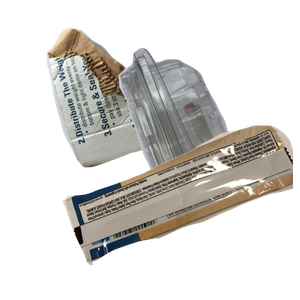cardboard: (44, 26, 209, 186)
glass: (102, 181, 246, 300)
plastic: (71, 45, 300, 225)
trash: (60, 123, 300, 300)
